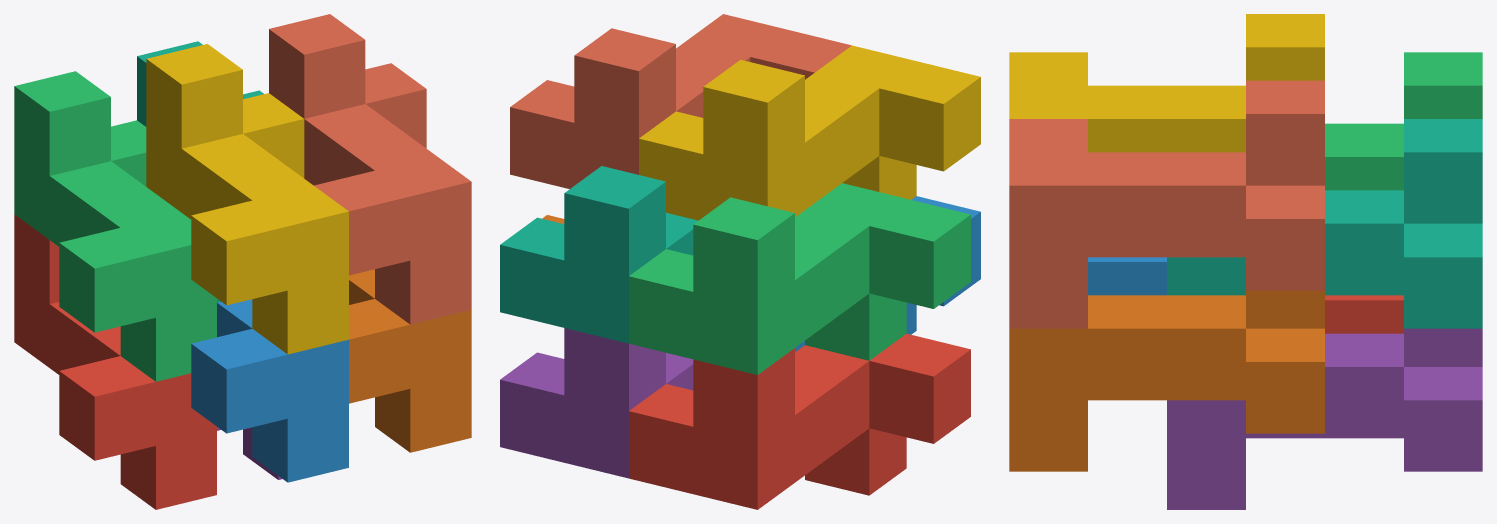
Rendered from tiling.obj.
3 renders of one model, left to right at view 1: azimuth 30°, elevation 25°; view 2: azimuth 150°, elevation 25°; view 3: azimuth 270°, elevation 25°, orthographic. The views are drawn at different scales.
Parts seen in each view (by area): view 1: copy_1_domain_4, copy_1_domain_3, copy_1_domain_8, copy_1_domain_1, copy_1_domain_2, copy_1_domain_6, copy_1_domain_7; view 2: copy_1_domain_3, copy_1_domain_1, copy_1_domain_4, copy_1_domain_8, copy_1_domain_7, copy_1_domain_5, copy_1_domain_2; view 3: copy_1_domain_8, copy_1_domain_6, copy_1_domain_5, copy_1_domain_7, copy_1_domain_4, copy_1_domain_3, copy_1_domain_1, copy_1_domain_2.
Part boxes in pixels (box(x1,y1,x2,y2)): copy_1_domain_4: box(146, 44, 348, 354); copy_1_domain_3: box(14, 71, 216, 381); copy_1_domain_8: box(269, 14, 471, 324); copy_1_domain_1: box(14, 214, 216, 509); copy_1_domain_2: box(191, 299, 348, 482); copy_1_domain_6: box(349, 269, 471, 452); copy_1_domain_7: box(137, 41, 263, 302); copy_1_domain_3: box(629, 183, 970, 374); copy_1_domain_1: box(629, 333, 970, 509); copy_1_domain_4: box(639, 45, 980, 220); copy_1_domain_8: box(510, 14, 851, 188); copy_1_domain_7: box(500, 166, 697, 343); copy_1_domain_5: box(500, 328, 693, 478); copy_1_domain_2: box(795, 196, 980, 351); copy_1_domain_8: box(1009, 80, 1324, 328); copy_1_domain_6: box(1009, 290, 1324, 471); copy_1_domain_5: box(1167, 328, 1482, 509); copy_1_domain_7: box(1167, 119, 1482, 328); copy_1_domain_4: box(1009, 14, 1324, 152); copy_1_domain_3: box(1325, 52, 1482, 190); copy_1_domain_1: box(1325, 295, 1403, 333); copy_1_domain_2: box(1088, 257, 1166, 295).
Bounding box in the file's own units: 6 × 6 × 6.
